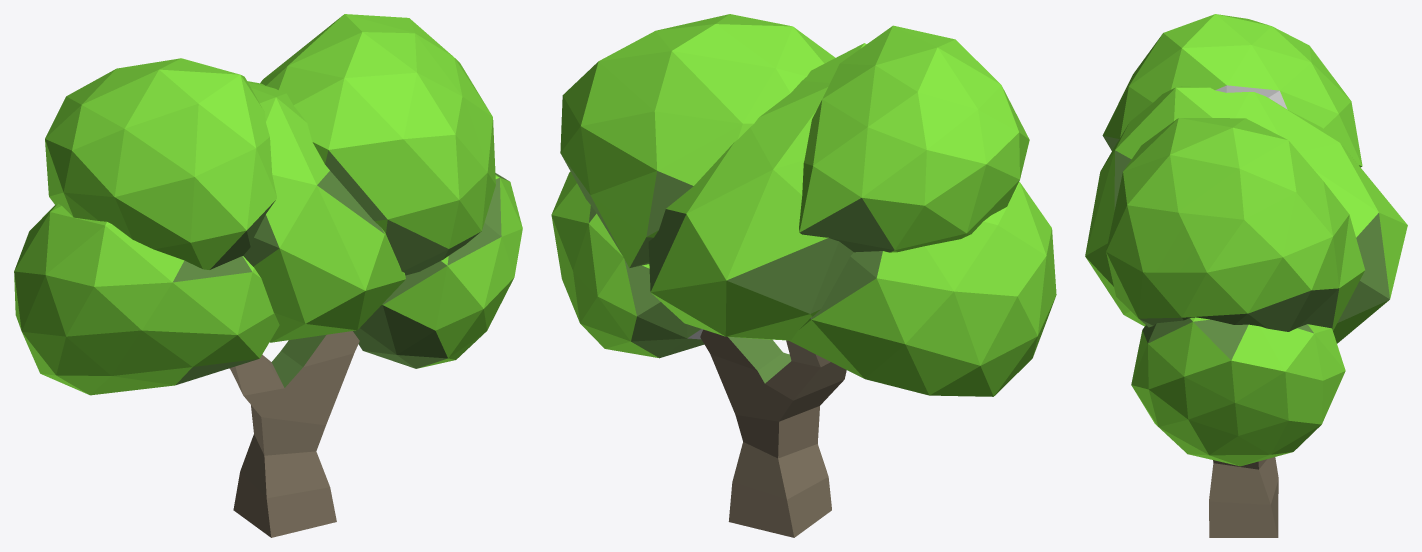
File: arbol 1 verde.fbx
The picture shows the model from 3 angles, left to right: view 1: azimuth 30°, elevation 25°; view 2: azimuth 150°, elevation 25°; view 3: azimuth 270°, elevation 25°; orthographic projection. The views are drawn at different scales.
Visible parts, largest first — view 1: OakTree1; view 2: OakTree1; view 3: OakTree1.
Boxes of the visible parts, x1,y1,x2,y2 form: OakTree1: [14, 14, 522, 537]; OakTree1: [551, 14, 1056, 537]; OakTree1: [1085, 14, 1407, 537].
Size of the model in its own units: 23567 by 23161 by 15168.
